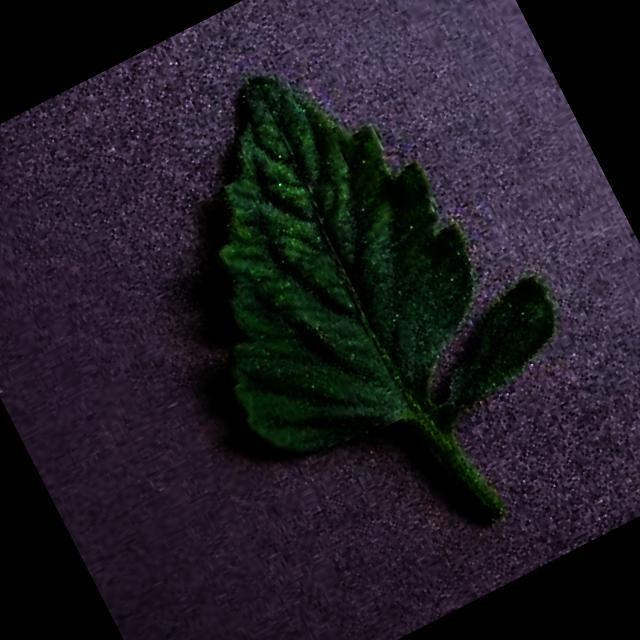Tomato mosaic virus leaf: (100, 0, 576, 504)
